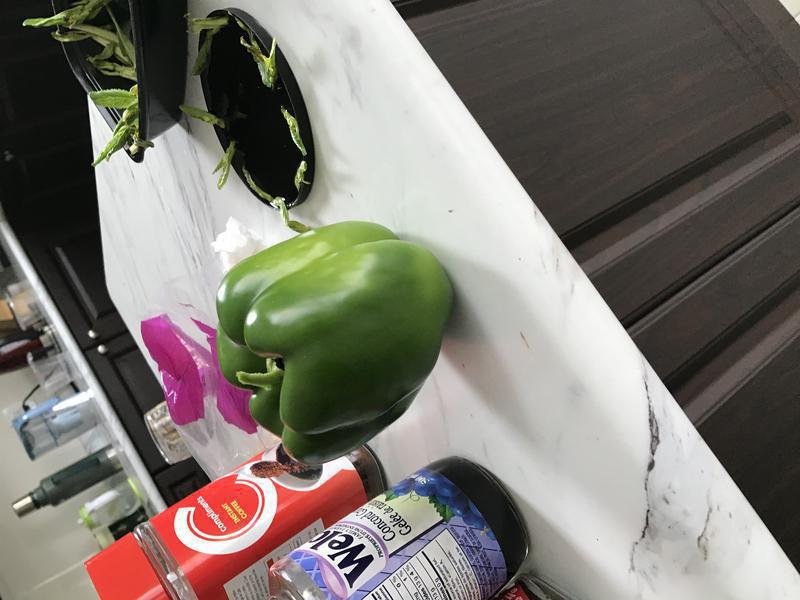green_pepper: (204, 206, 472, 472)
